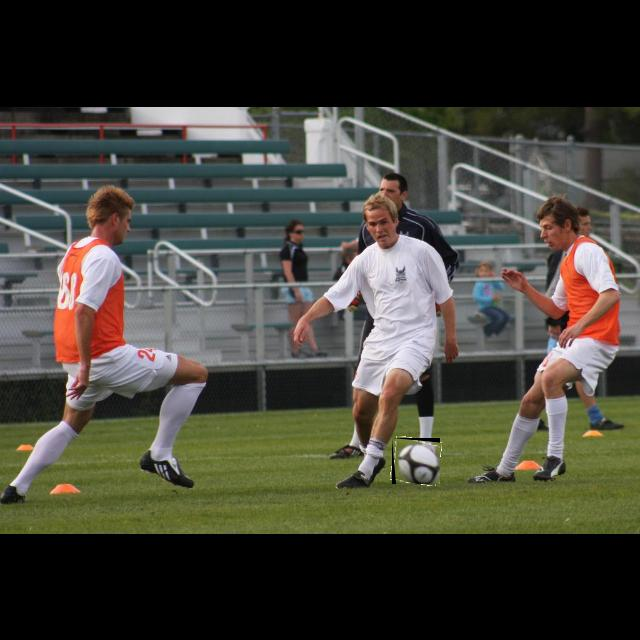Football: (392, 438, 440, 484)
